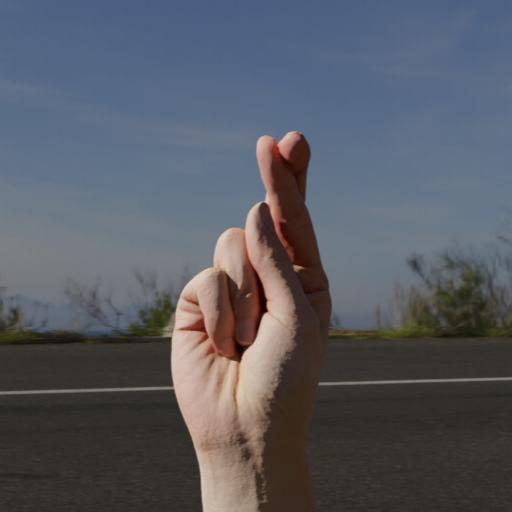R: (149, 117, 350, 512)
